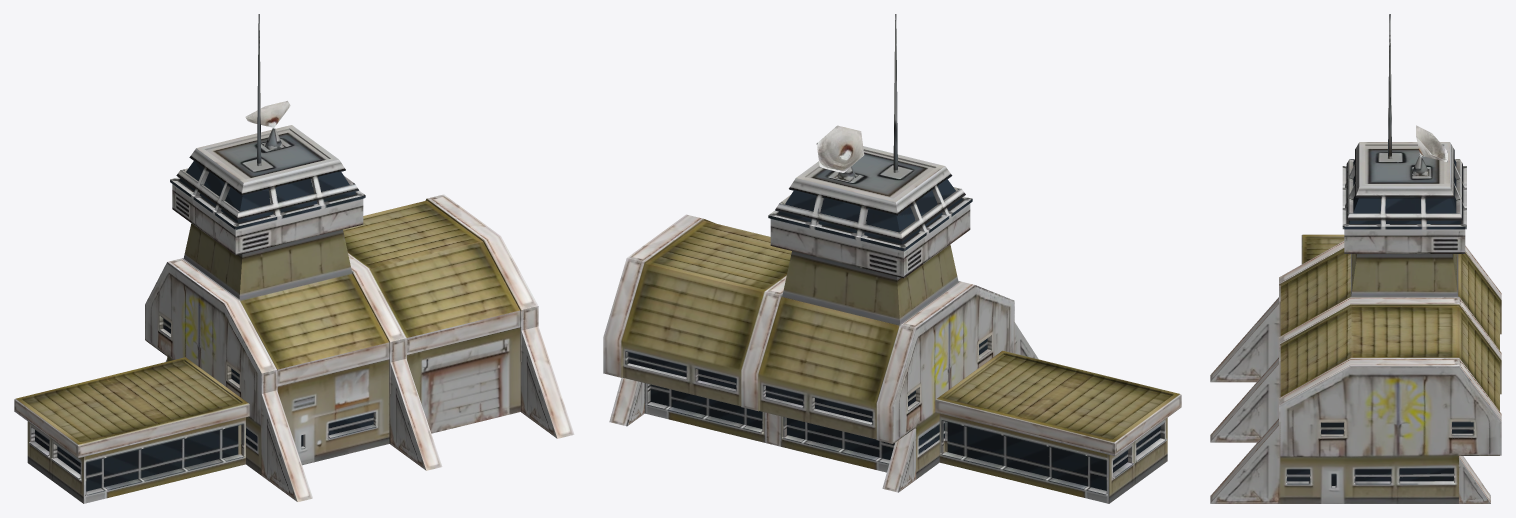
The model's file is d_gatecontrol_cad.glb.
3 renders of one model, left to right at view 1: azimuth 30°, elevation 25°; view 2: azimuth 150°, elevation 25°; view 3: azimuth 270°, elevation 25°, orthographic. The views are drawn at different scales.
Visible parts, largest first — view 1: Gatecontrol, Dish; view 2: Gatecontrol, Dish; view 3: Gatecontrol, Dish.
Boxes of the visible parts, <box> form: Gatecontrol: <box>14,14,574,503</box>; Dish: <box>245,100,290,127</box>; Gatecontrol: <box>603,14,1181,503</box>; Dish: <box>816,125,864,173</box>; Gatecontrol: <box>1210,14,1501,503</box>; Dish: <box>1416,125,1447,162</box>.
Bounding box in the file's own units: 24.2 × 20.83 × 14.22.
2 materials, 2 textured.
